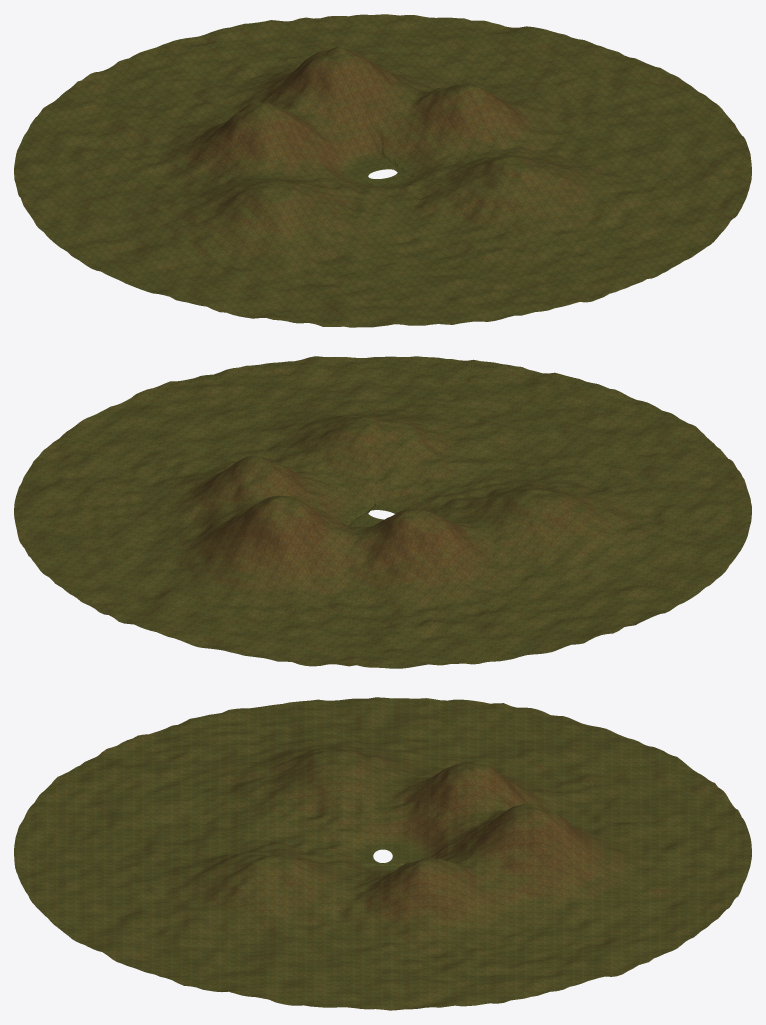
The model's file is terrain.glb.
The picture shows the model from 3 angles, top to bottom: view 1: azimuth 30°, elevation 25°; view 2: azimuth 150°, elevation 25°; view 3: azimuth 270°, elevation 25°; orthographic projection.
Parts seen in each view (by area): view 1: Sculpted woodland terrain; view 2: Sculpted woodland terrain; view 3: Sculpted woodland terrain.
Part boxes in pixels (x1,y1,x2,y2): Sculpted woodland terrain: [14, 14, 751, 327]; Sculpted woodland terrain: [14, 356, 751, 668]; Sculpted woodland terrain: [14, 697, 751, 1010].
Bounding box in the file's own units: 540 × 52.28 × 540.
Materials: 1 (1 with a texture image).
